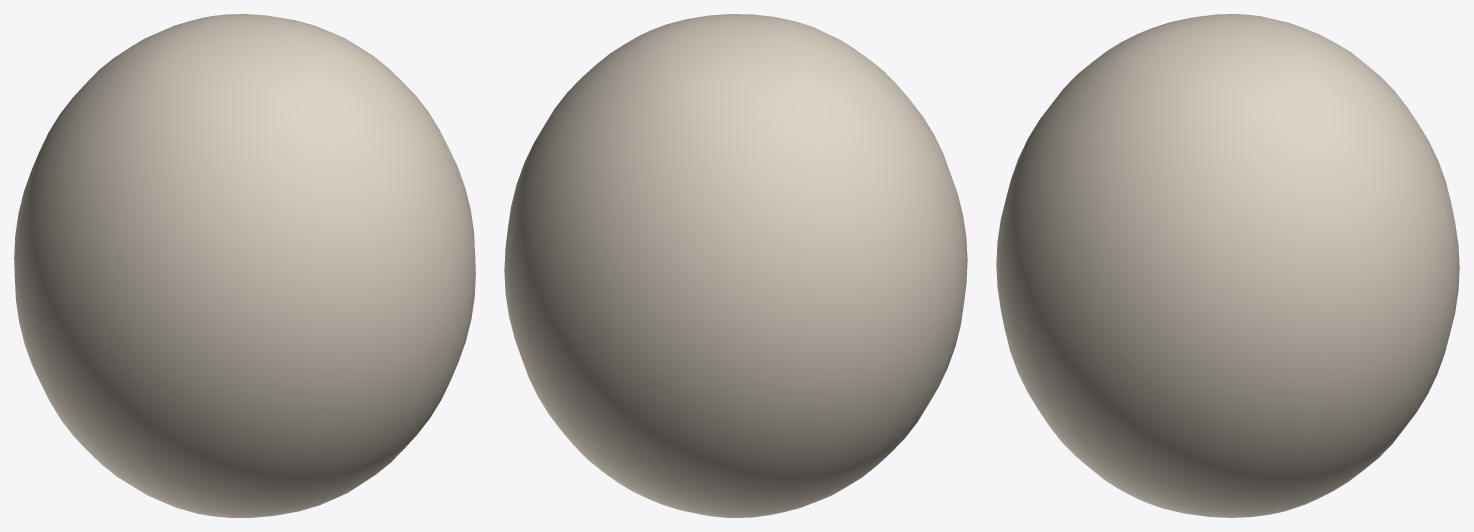
File: perlaINGAME.fbx
3 renders of one model, left to right at view 1: azimuth 30°, elevation 25°; view 2: azimuth 150°, elevation 25°; view 3: azimuth 270°, elevation 25°, orthographic.
Parts seen in each view (by area): view 1: perla; view 2: perla; view 3: perla.
Boxes of the visible parts, box(x1,y1,x2,y2) form: perla: box(14, 14, 475, 517); perla: box(504, 14, 967, 517); perla: box(996, 14, 1459, 517).
Size of the model in its own units: 54.41 by 59.3 by 54.41.
